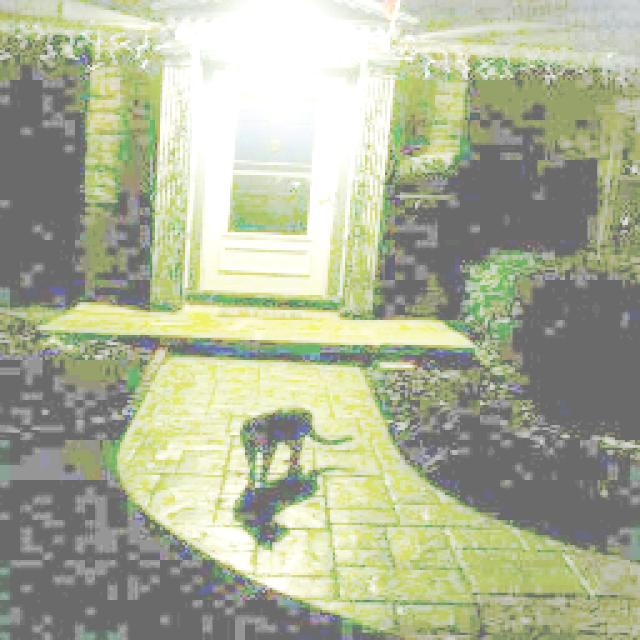cat: (215, 372, 372, 522)
